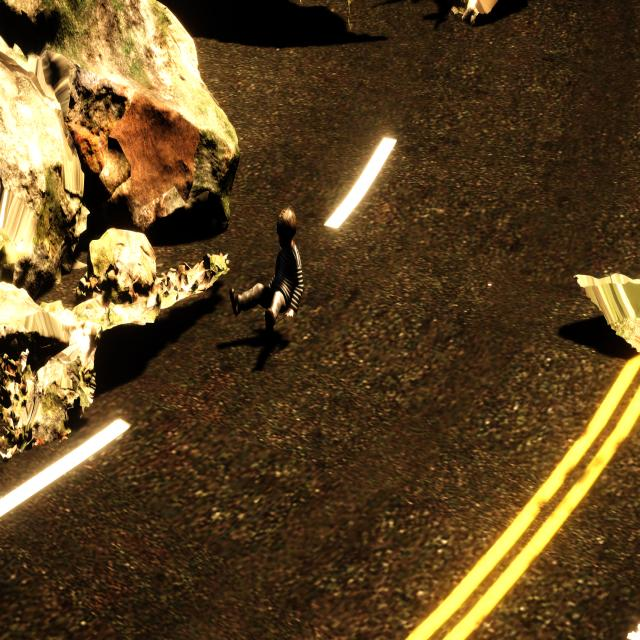Human: (228, 203, 307, 345)
